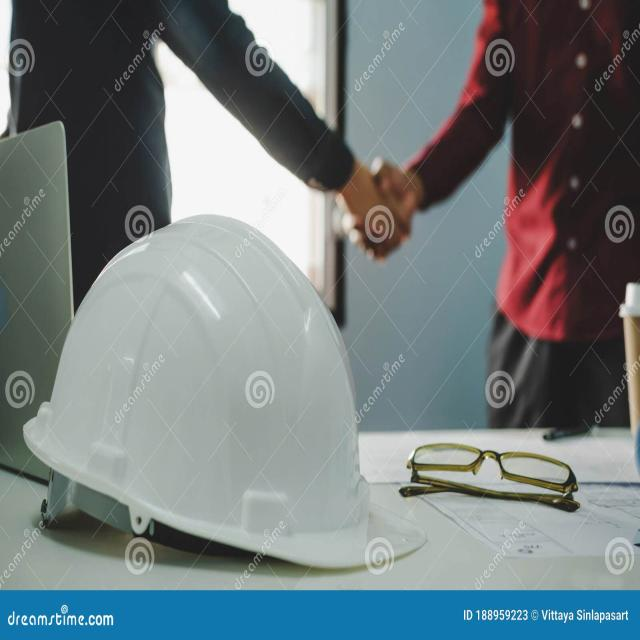helmet: (19, 203, 432, 582)
